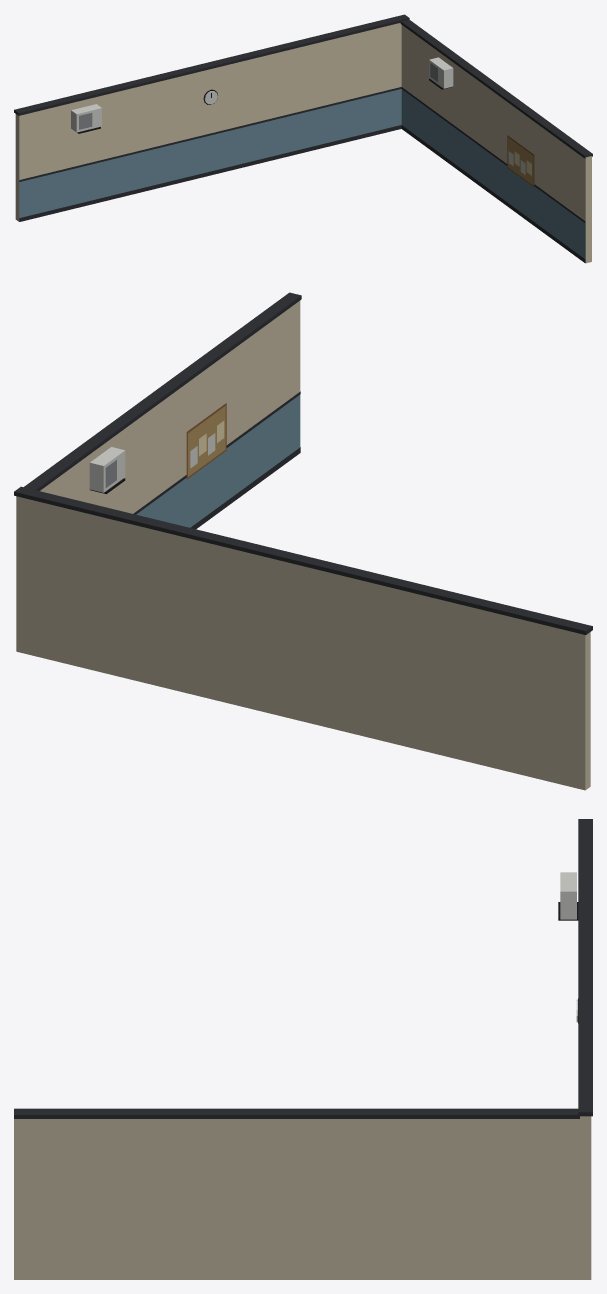
File: building_room_visa.glb
The picture shows the model from 3 angles, top to bottom: view 1: azimuth 30°, elevation 25°; view 2: azimuth 150°, elevation 25°; view 3: azimuth 270°, elevation 25°; orthographic projection. The views are drawn at different scales.
Visible parts, largest first — view 1: body; view 2: body; view 3: body.
Part boxes in pixels (left/top/right/bottom): body: left=14, top=14, right=592, bottom=263; body: left=14, top=292, right=592, bottom=790; body: left=14, top=819, right=592, bottom=1279.
Size of the model in its own units: 12.26 by 3.28 by 10.23.
